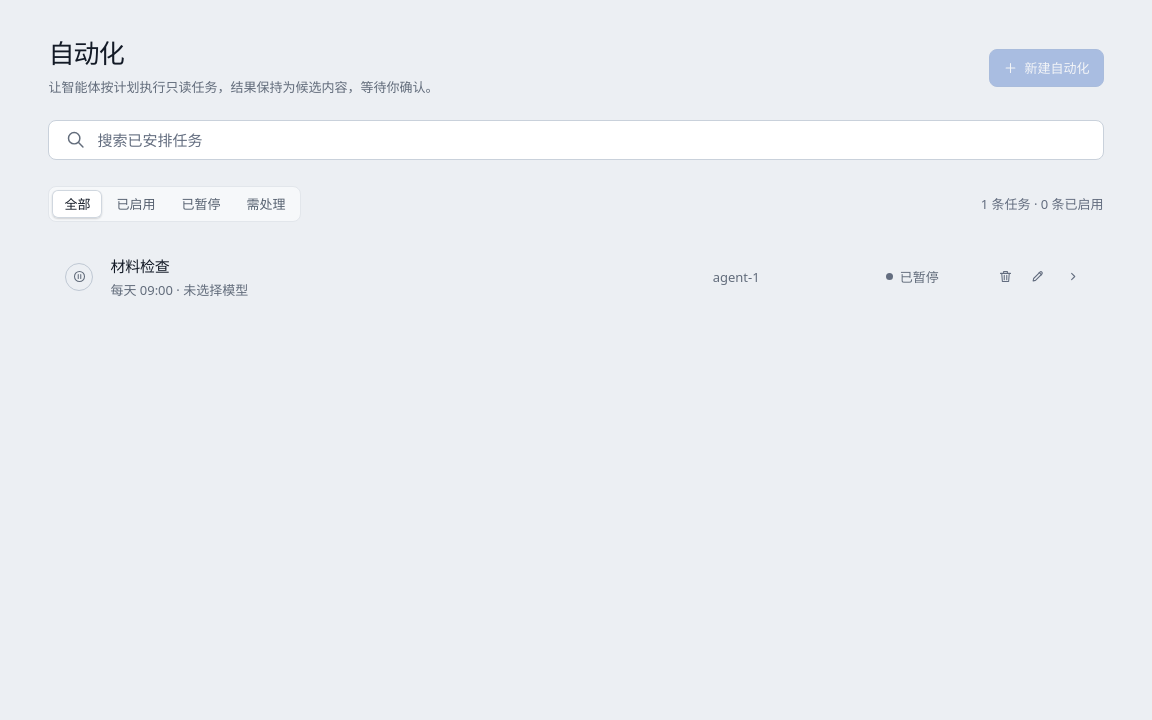
Test: 已安排任务页面 › 无可用项目或智能体时仍能删除最后一条任务，保留搜索和筛选
Expected: the text "材料检查" is shown, [110,256,170,276]
Expected: the button "新建自动化" is disabled, [989,49,1104,87]
Step 1. Type "材料" into the search field → (574, 140), box [97,121,1051,159]
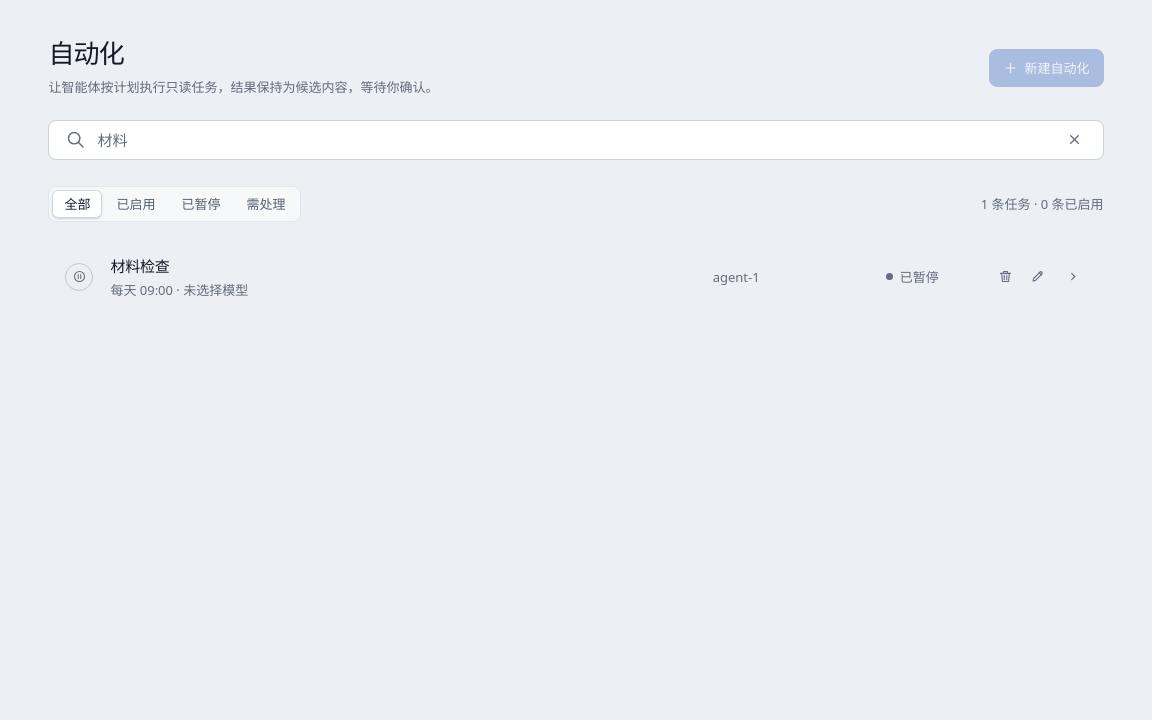
Step 2. Click the button "已暂停" → (201, 204), box [169,190,232,218]
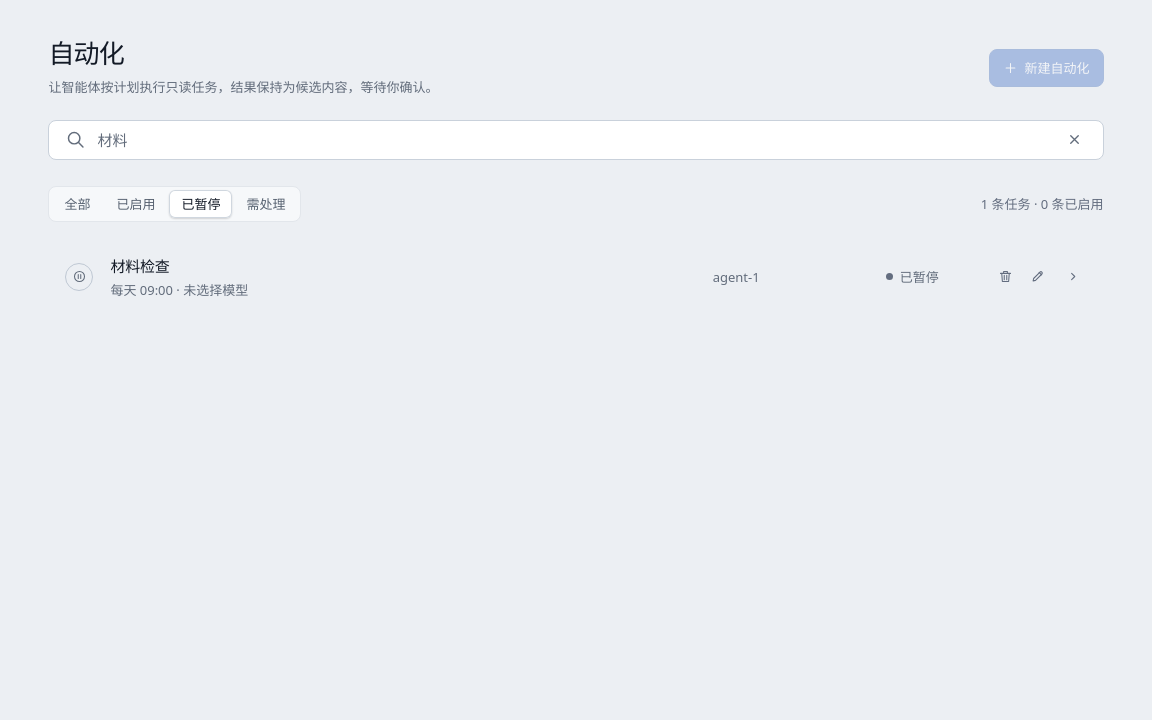
Step 3. Click the button named "删除材料检查" → (1006, 277), box [990,261,1022,293]
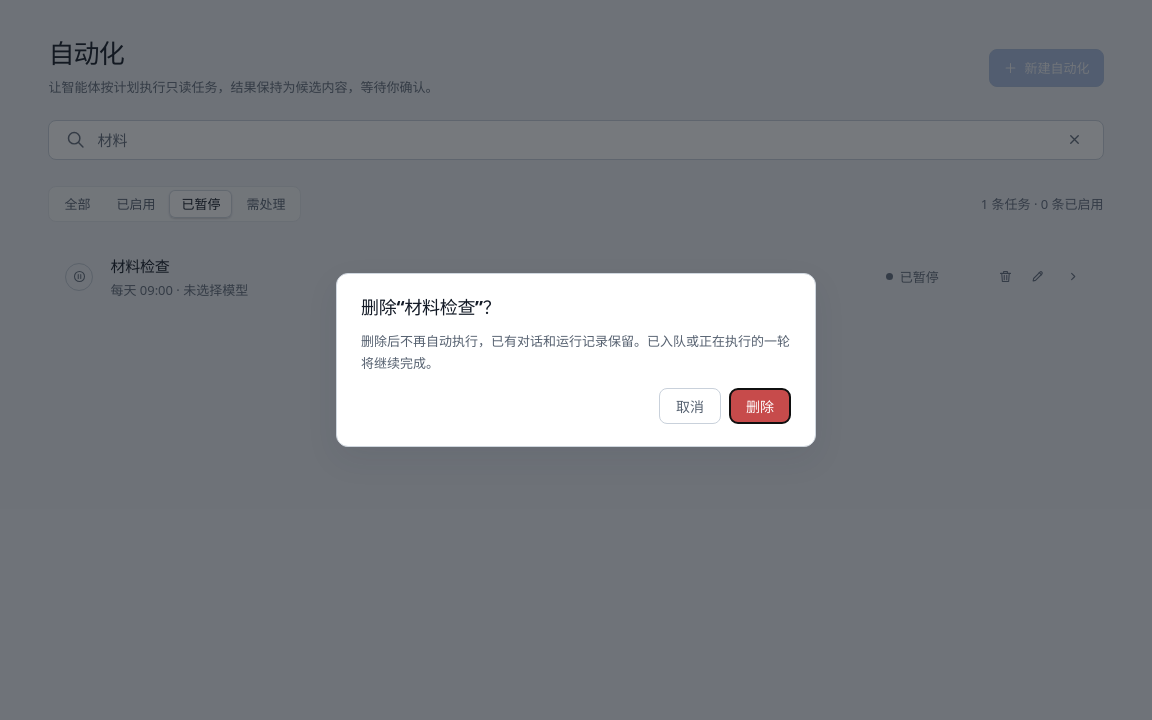
Step 4. Click the button "删除" → (760, 406), box [729,388,791,424]
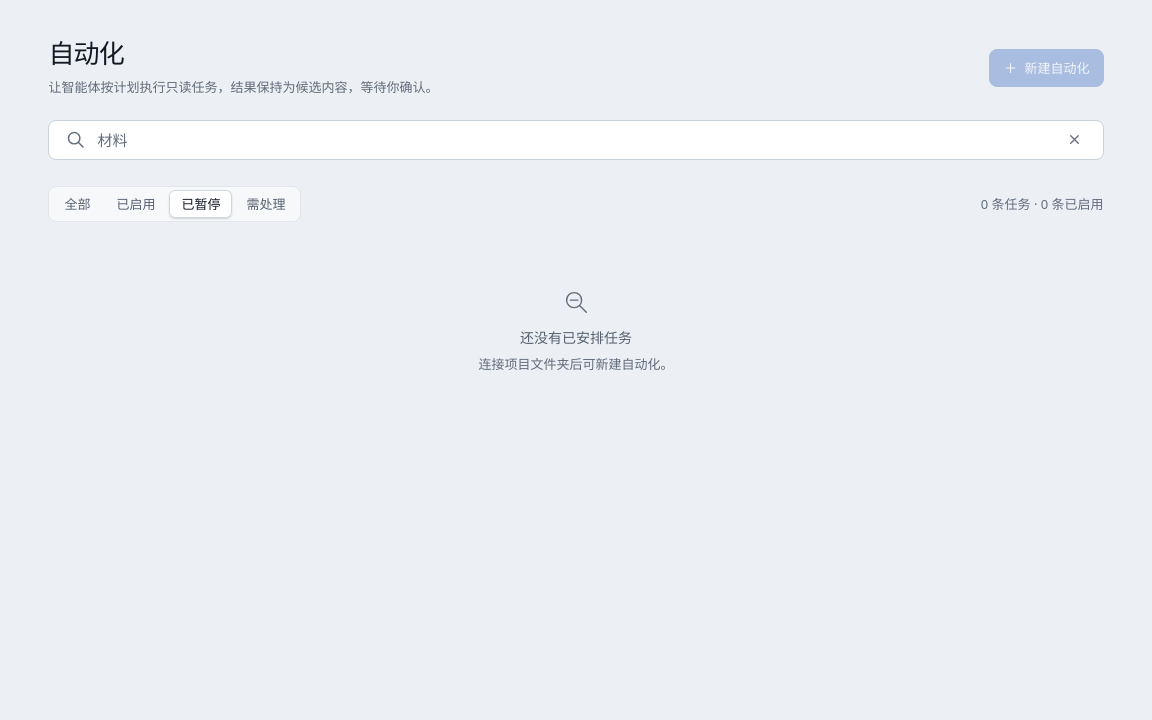
Result: the text "还没有已安排任务" is shown at [520,327,632,347]
Result: the text "0 条任务 · 0 条已启用" is shown at [981,194,1104,214]
